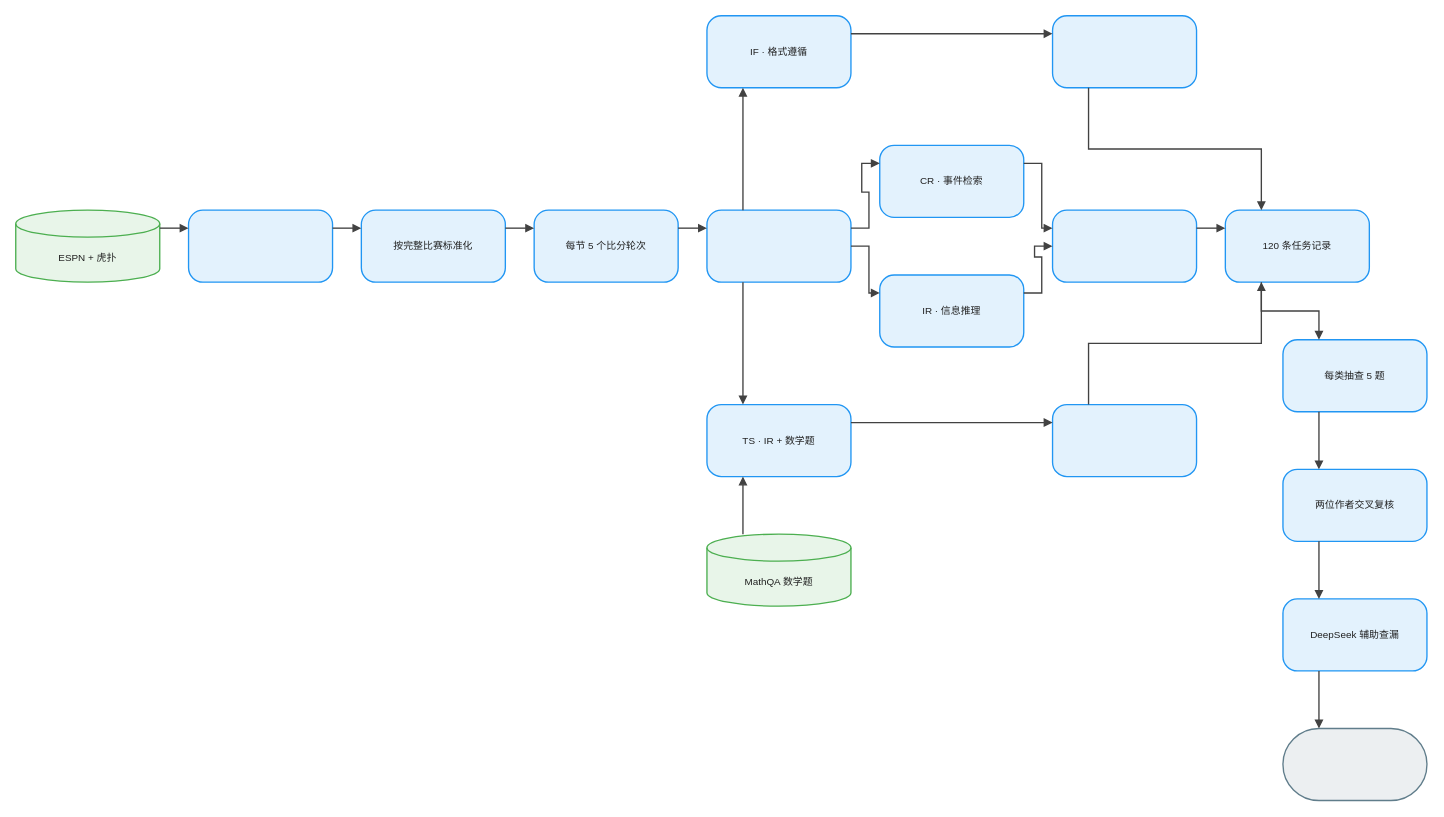
Some shapes in this 1444 by 817 pixel diagram are drawn without their labels. The shapes that lost their labels are listed below. From the top down, each one's centre as x and y in pixels, then its label:
At point 1124,51: "IF 开放答案 + 清单".
At point 260,245: "30 场唯一源比赛".
At point 778,245: "人工按任务设计".
At point 1124,245: "体育正则 Q/A + 清单".
At point 1124,440: "TS 混合题 + 清单".
At point 1354,764: "公开发布".
